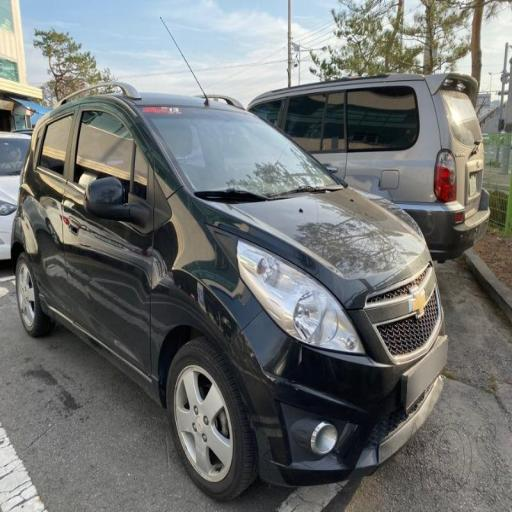broken: (251, 314, 315, 450), (128, 224, 180, 314)
